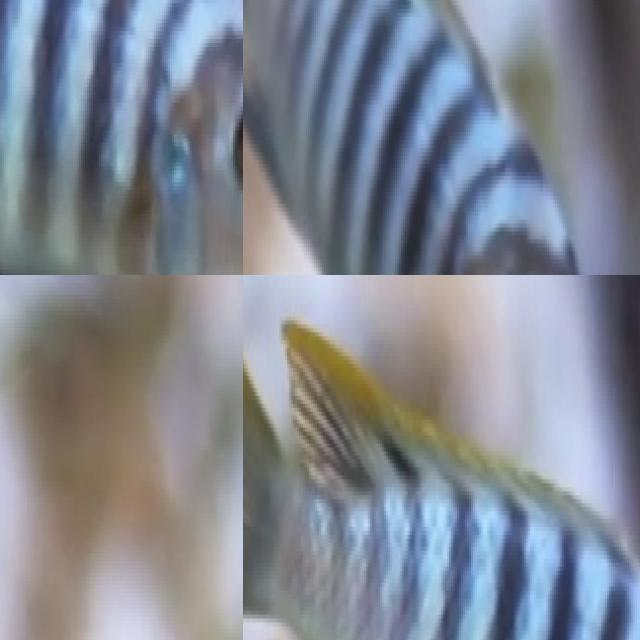fish: (243, 275, 640, 640), (0, 0, 243, 275)
